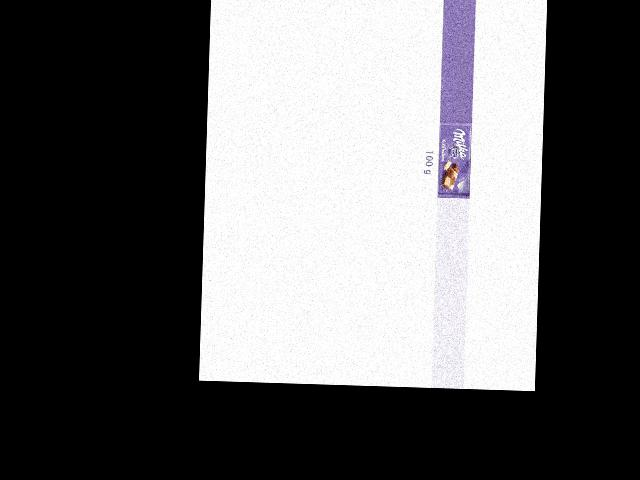chocolate: (436, 120, 472, 199)
